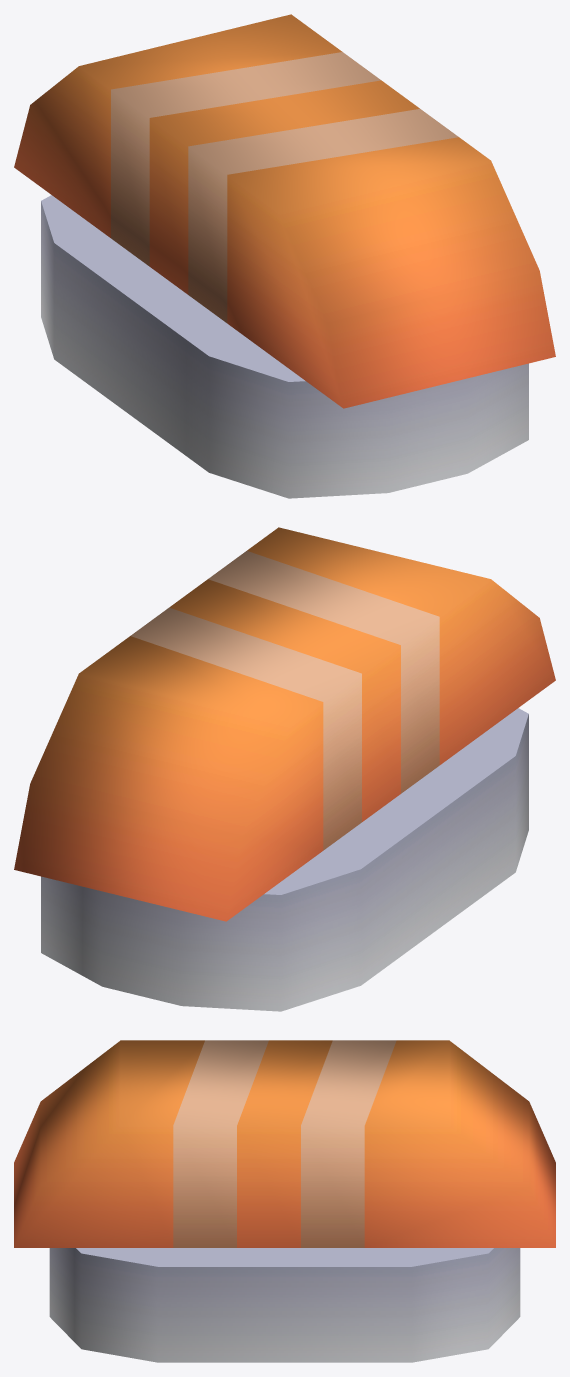
File: sushi_salmon.glb
3 views of the same model, one above another, from view 1: azimuth 30°, elevation 25°; view 2: azimuth 150°, elevation 25°; view 3: azimuth 270°, elevation 25° (orthographic). The views are drawn at different scales.
Visible parts, largest first — view 1: sushi-salmon; view 2: sushi-salmon; view 3: sushi-salmon.
Part boxes in pixels (left/top/right/bottom): sushi-salmon: left=14, top=14, right=555, bottom=498; sushi-salmon: left=14, top=527, right=555, bottom=1011; sushi-salmon: left=14, top=1040, right=555, bottom=1362.
Size of the model in its own units: 0.1079 by 0.0892 by 0.2008.
Materials: 1 (1 with a texture image).
